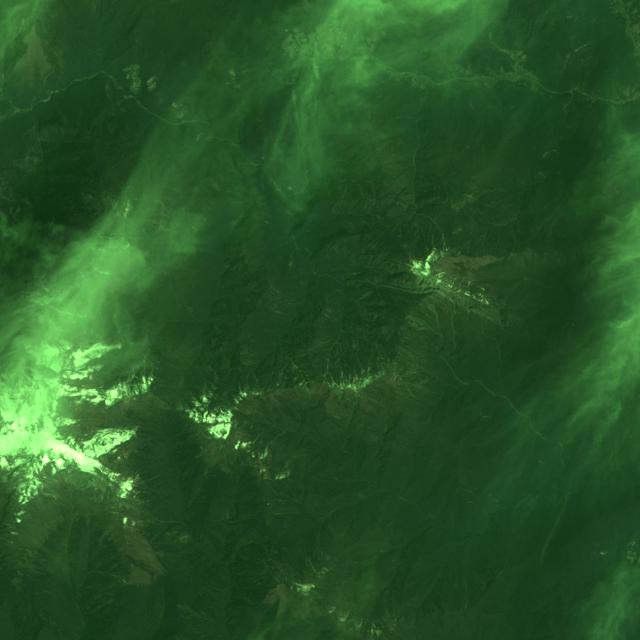landslides: (407, 315, 443, 338), (420, 300, 441, 332), (211, 179, 242, 198), (239, 66, 270, 84), (558, 53, 571, 91), (466, 488, 488, 508), (415, 380, 444, 395), (276, 360, 289, 387), (311, 334, 336, 348), (256, 189, 279, 203), (575, 40, 600, 52), (465, 563, 471, 610), (236, 64, 259, 75), (592, 139, 602, 162), (288, 248, 298, 270), (409, 321, 430, 331), (404, 366, 419, 379), (176, 533, 193, 544), (407, 388, 421, 401), (188, 306, 200, 321), (312, 589, 327, 600), (464, 186, 480, 196), (403, 364, 415, 377), (617, 170, 635, 178), (542, 149, 558, 158), (524, 277, 540, 286), (396, 115, 420, 121), (401, 444, 413, 456), (367, 211, 383, 220), (593, 288, 600, 308), (328, 514, 335, 533), (220, 199, 242, 205), (613, 176, 631, 183), (386, 218, 400, 227), (241, 359, 259, 365), (232, 92, 250, 98), (421, 376, 433, 385), (249, 351, 267, 357), (148, 361, 155, 376), (565, 185, 578, 193), (308, 595, 318, 605)
